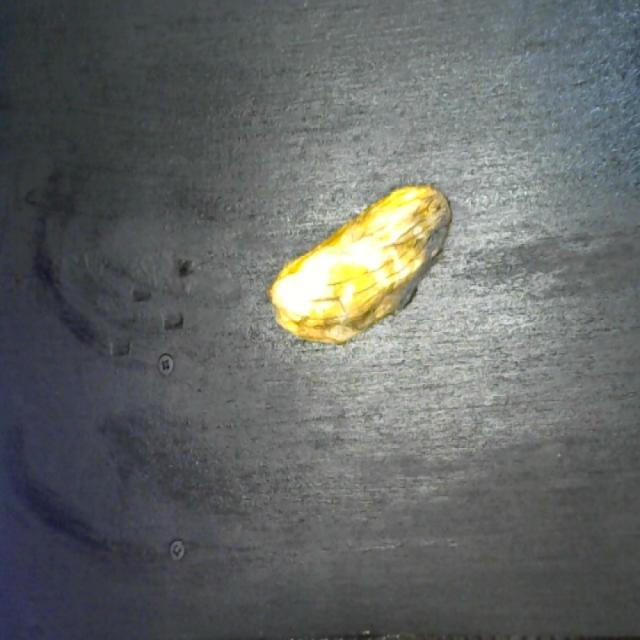biodegradable: (262, 170, 454, 350)
